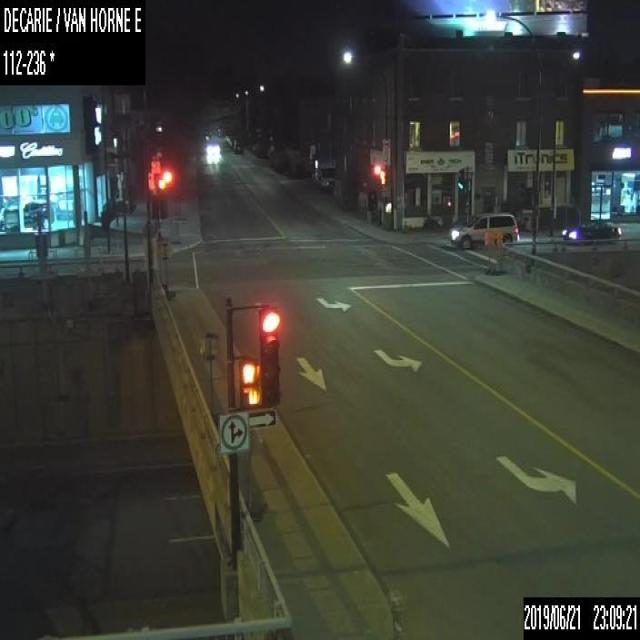construction: (242, 427, 266, 520), (200, 331, 218, 427), (158, 237, 175, 299), (492, 229, 502, 275), (484, 231, 492, 274)
pedestrian: (100, 204, 107, 239)
vehicle: (449, 212, 518, 248), (561, 218, 621, 244), (316, 158, 334, 192), (233, 138, 242, 153)
